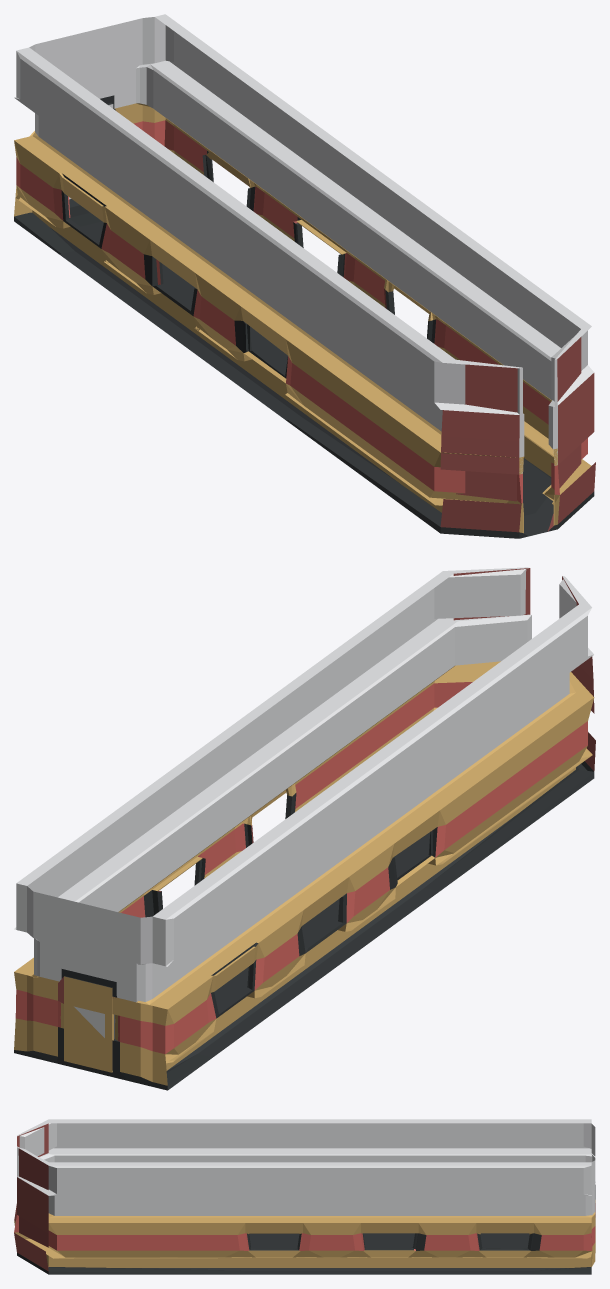
Rendered from train.fbx.
3 renders of one model, top to bottom at view 1: azimuth 30°, elevation 25°; view 2: azimuth 150°, elevation 25°; view 3: azimuth 270°, elevation 25°, orthographic. The views are drawn at different scales.
Visible parts, largest first — view 1: Plane; view 2: Plane; view 3: Plane.
Part boxes in pixels (x1,y1,x2,y2): Plane: (14,14,595,538); Plane: (14,567,595,1090); Plane: (14,1119,595,1274).
Bounding box in the file's own units: 308 × 319 × 1546.
